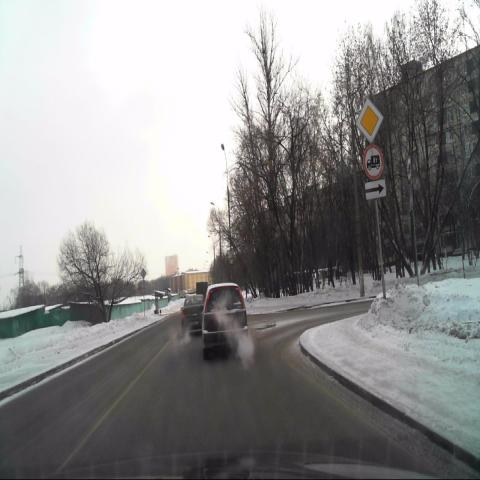3_4: (364, 147, 383, 179)
8_3_1: (365, 180, 387, 201)
